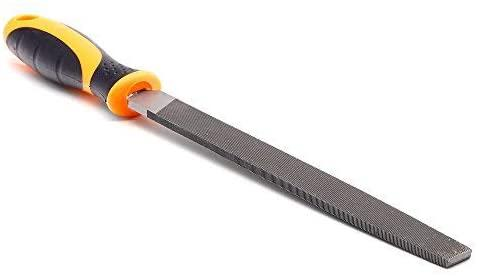Files: (6, 1, 477, 276)
